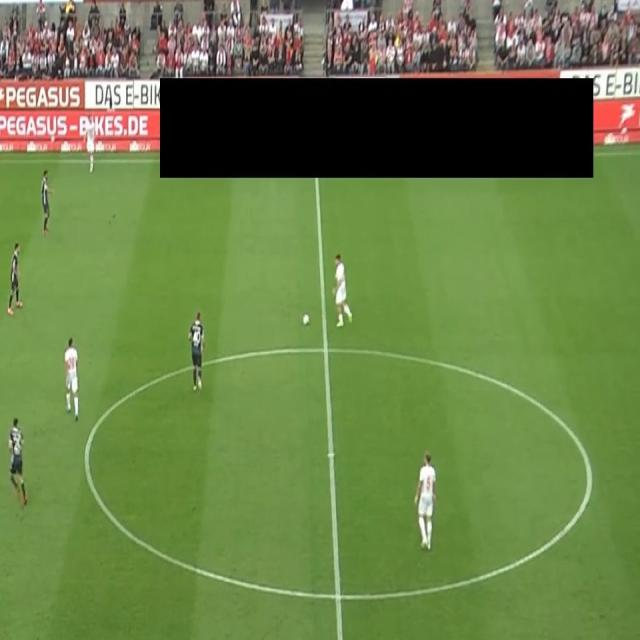ball: (302, 313, 310, 327)
